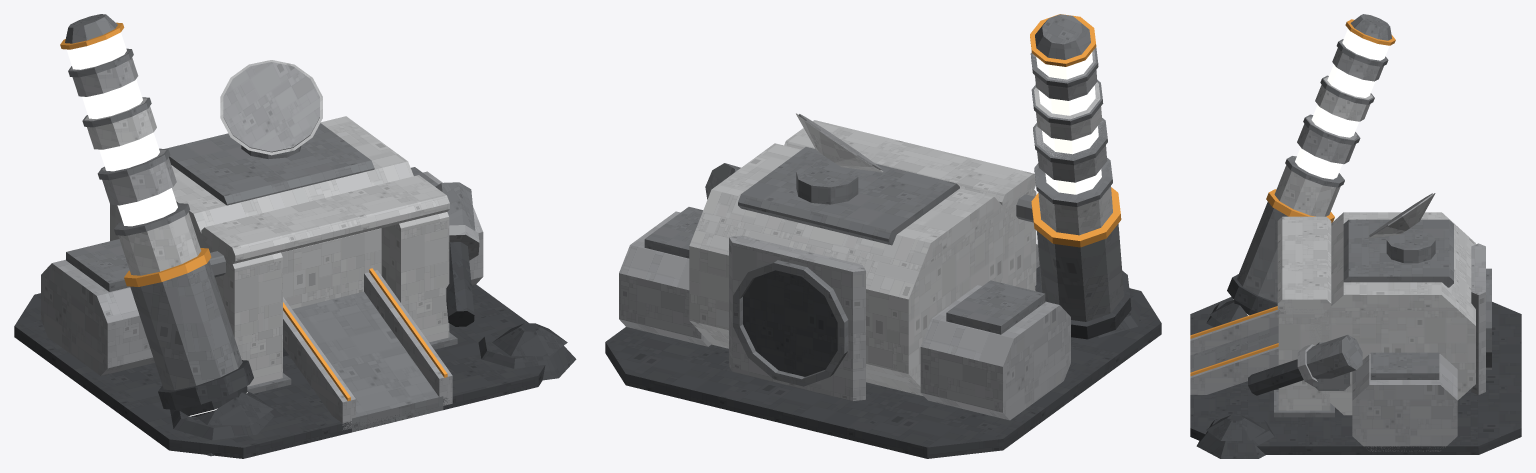
Rendered from rig_bore_lod2.glb.
3 renders of one model, left to right at view 1: azimuth 30°, elevation 25°; view 2: azimuth 150°, elevation 25°; view 3: azimuth 270°, elevation 25°, orthographic. The views are drawn at different scales.
Visible parts, largest first — view 1: rig_bore_base_body.002, rig_bore_dish_body.002, rig_bore_bore_glow.002, rig_bore_base_trim.002, rig_bore_auger_r_body.002, rig_bore_bore_body.002; view 2: rig_bore_base_body.002, rig_bore_bore_glow.002, rig_bore_base_trim.002, rig_bore_dish_body.002; view 3: rig_bore_base_body.002, rig_bore_bore_glow.002, rig_bore_base_trim.002, rig_bore_auger_r_body.002, rig_bore_dish_body.002.
Boxes of the visible parts, box(x1,y1,x2,y2) form: rig_bore_base_body.002: box(14, 14, 576, 458); rig_bore_dish_body.002: box(220, 60, 322, 155); rig_bore_bore_glow.002: box(66, 32, 247, 416); rig_bore_base_trim.002: box(60, 22, 447, 401); rig_bore_auger_r_body.002: box(446, 242, 474, 326); rig_bore_bore_body.002: box(173, 386, 247, 416); rig_bore_base_body.002: box(605, 14, 1161, 458); rig_bore_bore_glow.002: box(1036, 52, 1101, 194); rig_bore_base_trim.002: box(1030, 14, 1121, 247); rig_bore_dish_body.002: box(796, 113, 883, 172); rig_bore_base_body.002: box(1190, 14, 1521, 458); rig_bore_bore_glow.002: box(1233, 29, 1389, 315); rig_bore_base_trim.002: box(1190, 19, 1395, 376); rig_bore_auger_r_body.002: box(1248, 359, 1303, 395); rig_bore_dish_body.002: box(1368, 193, 1435, 238).
Bounding box in the file's own units: 3.11 × 2.8 × 2.7.
3 materials, 1 textured.
